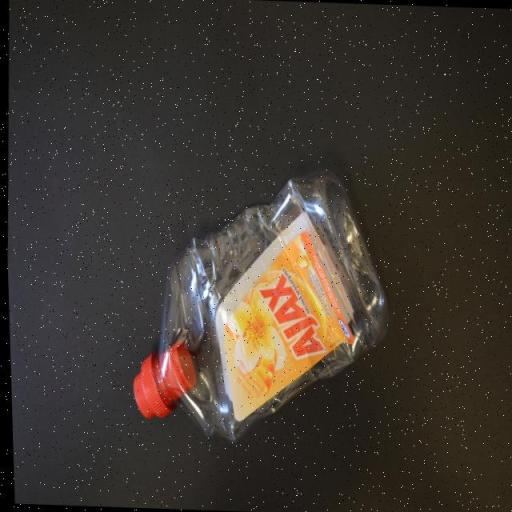plastic: (122, 166, 400, 454)
